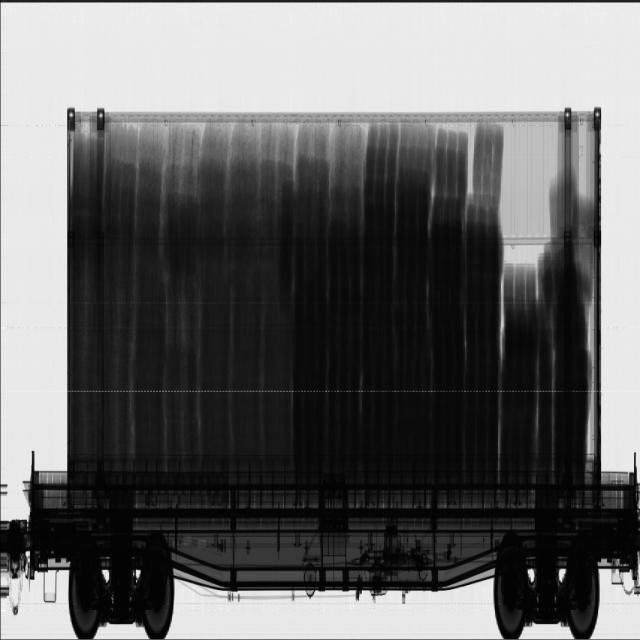clothes: (72, 119, 599, 488)
